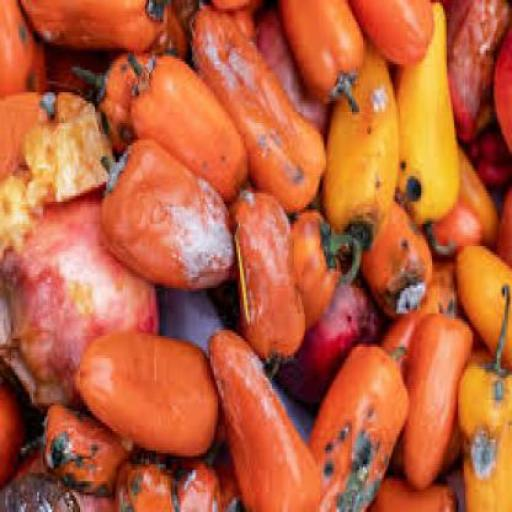biodegradable: (2, 182, 162, 409), (190, 2, 328, 207), (214, 324, 332, 509), (102, 135, 236, 282), (126, 47, 252, 199), (78, 333, 224, 453), (308, 341, 411, 509), (272, 258, 388, 405), (394, 0, 460, 252), (324, 40, 400, 246), (402, 296, 476, 490), (239, 182, 305, 384), (459, 279, 511, 511), (256, 2, 336, 143), (28, 84, 117, 210), (22, 400, 142, 492), (281, 1, 369, 109), (292, 207, 365, 333), (448, 0, 511, 145), (360, 196, 434, 314), (382, 308, 432, 476), (75, 48, 156, 148), (455, 240, 511, 368), (21, 0, 171, 46), (13, 447, 119, 509), (458, 134, 501, 257), (346, 0, 434, 59), (1, 0, 50, 92), (2, 87, 50, 176), (2, 168, 46, 252), (364, 472, 460, 510), (2, 375, 28, 509), (2, 467, 84, 509), (46, 45, 118, 92), (426, 202, 484, 255), (173, 453, 227, 509), (129, 453, 180, 509), (494, 0, 510, 153), (469, 126, 511, 184), (150, 0, 191, 57), (214, 442, 244, 509), (499, 176, 511, 268), (446, 465, 465, 509), (466, 316, 488, 352)
